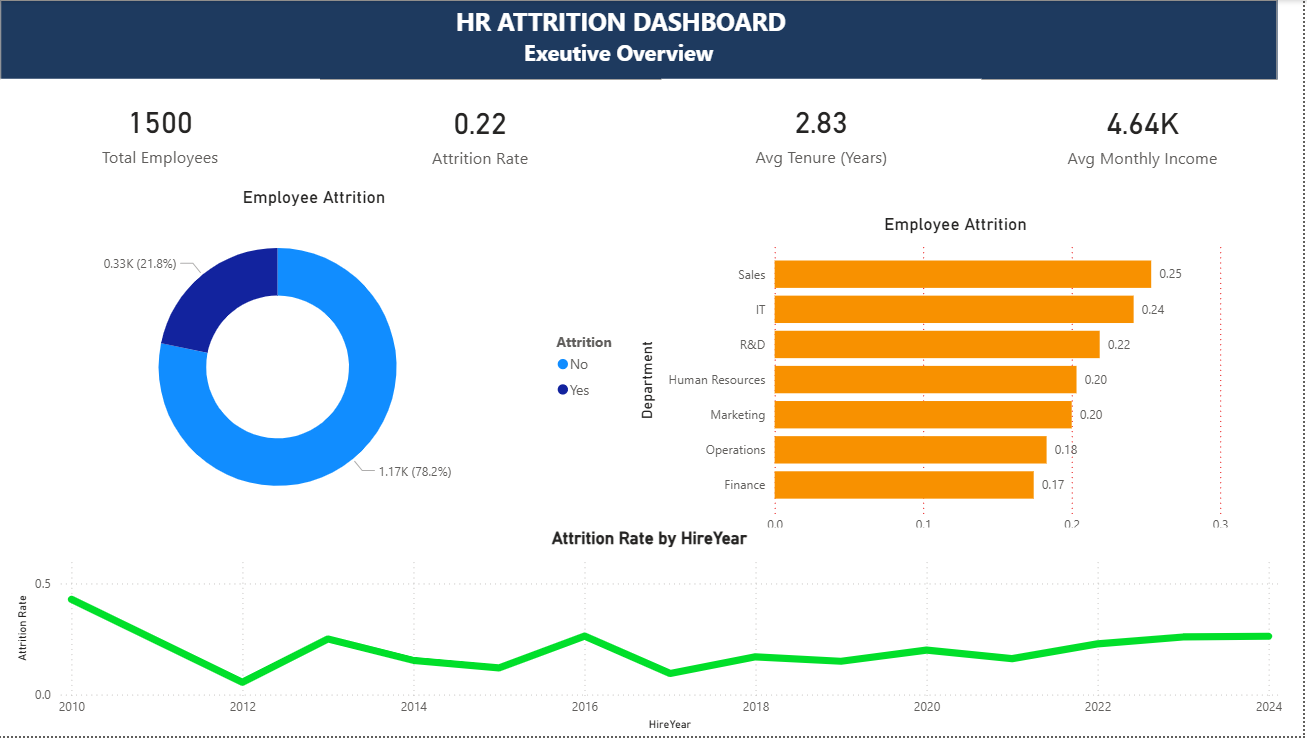

The dashboard page shown, as its layout file describes it:
{"tool":"powerbi","page":{"name":"Executive Overview","canvas":[1280,720],"ordinal":0},"visuals":[{"type":"textbox","box":[5.8,0,1249.4,77.9],"z":0},{"type":"donutChart","title":"Employee Attrition","fields":{"Y":["CountNonNull(EmployeeData.EmployeeID)"],"Category":["EmployeeData.Attrition"]},"box":[0,181.8,626.2,334.7],"z":1000},{"type":"clusteredBarChart","title":"Employee Attrition","fields":{"Category":["EmployeeData.Department"],"Y":["EmployeeData.Attrition Rate"]},"box":[626.2,209.2,629,336.2],"z":2000},{"type":"lineChart","fields":{"Category":["EmployeeData.HireYear"],"Y":["EmployeeData.Attrition Rate"]},"box":[17.3,516.5,1248,203.4],"z":3000},{"type":"card","fields":{"Values":["EmployeeData.Total Employees"]},"box":[5.8,76.5,313.1,103.9],"z":4000},{"type":"card","fields":{"Values":["EmployeeData.Attrition Rate"]},"box":[318.9,77.9,313.1,103.9],"z":5000},{"type":"card","fields":{"Values":["EmployeeData.Avg Tenure (Years)"]},"box":[653.6,76.5,313.1,103.9],"z":6000},{"type":"card","fields":{"Values":["EmployeeData.Avg Monthly Income"]},"box":[966.7,77.9,313.1,103.9],"z":7000}]}

Visuals, with their boxes in screenshot pixels (x1, y1, x2, y2), scaled from the page's 1280x720 canvas onto the 1307x738 screenshot:
textbox: [6, 0, 1282, 80]
"Employee Attrition" donutChart: [0, 186, 639, 529]
"Employee Attrition" clusteredBarChart: [639, 214, 1282, 559]
lineChart - EmployeeData.HireYear x EmployeeData.Attrition Rate: [18, 529, 1292, 737]
card - EmployeeData.Total Employees: [6, 78, 326, 185]
card - EmployeeData.Attrition Rate: [326, 80, 645, 186]
card - EmployeeData.Avg Tenure (Years): [667, 78, 987, 185]
card - EmployeeData.Avg Monthly Income: [987, 80, 1306, 186]
